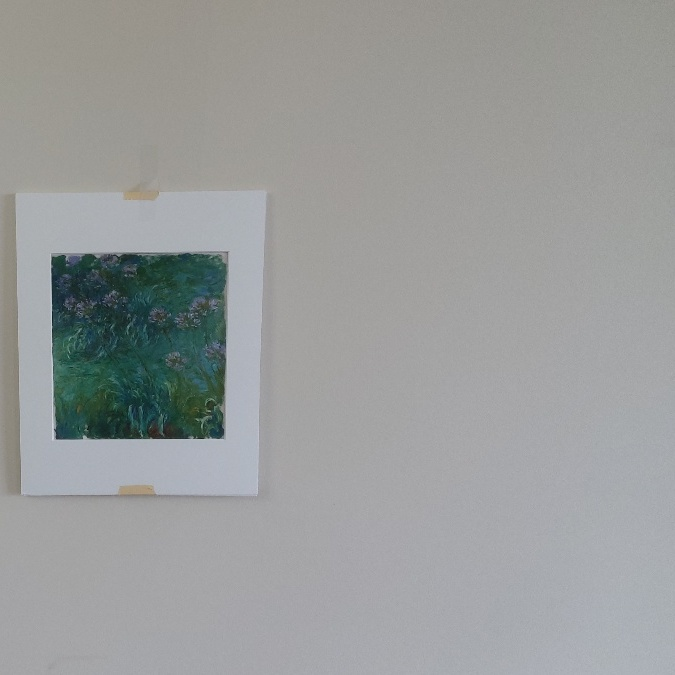painting: (38, 245, 241, 454)
